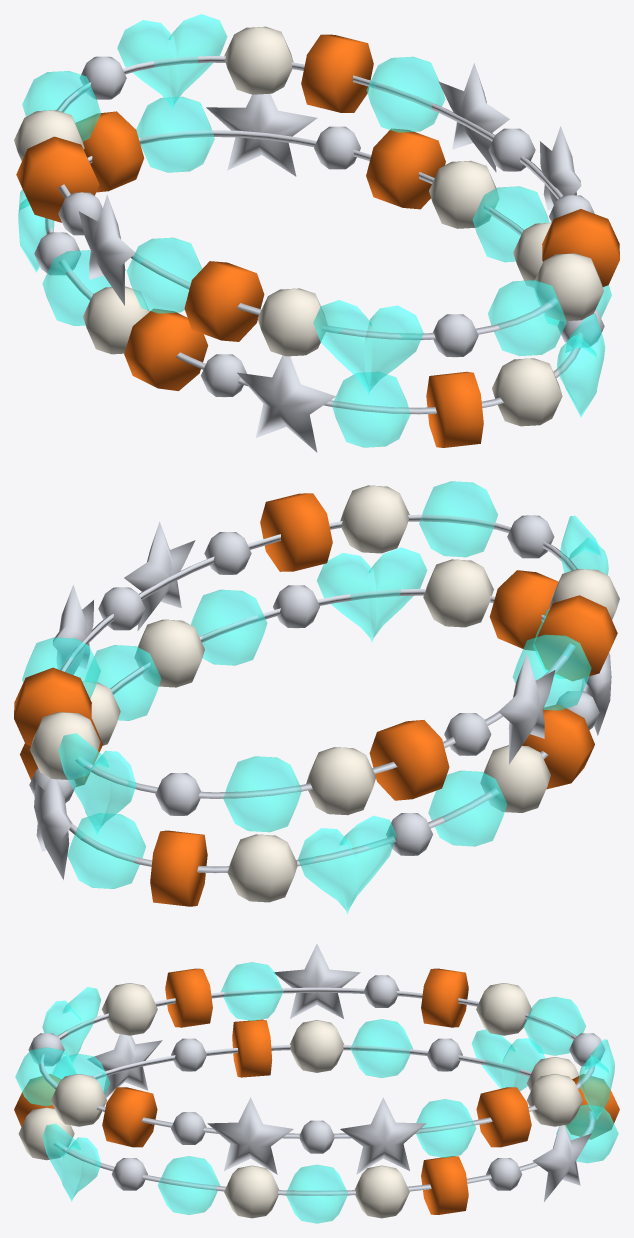
The model's file is y2k_bead_bracelet.glb.
The picture shows the model from 3 angles, top to bottom: view 1: azimuth 30°, elevation 25°; view 2: azimuth 150°, elevation 25°; view 3: azimuth 270°, elevation 25°; orthographic projection. The views are drawn at different scales.
Visible parts, largest first — view 1: y2k_bead_bracelet; view 2: y2k_bead_bracelet; view 3: y2k_bead_bracelet.
Boxes of the visible parts, bbox=[...] form: y2k_bead_bracelet: bbox=[14, 14, 619, 452]; y2k_bead_bracelet: bbox=[14, 481, 619, 913]; y2k_bead_bracelet: bbox=[14, 944, 619, 1223].
Bounding box in the file's own units: 0.0494 × 0.0188 × 0.0732.
